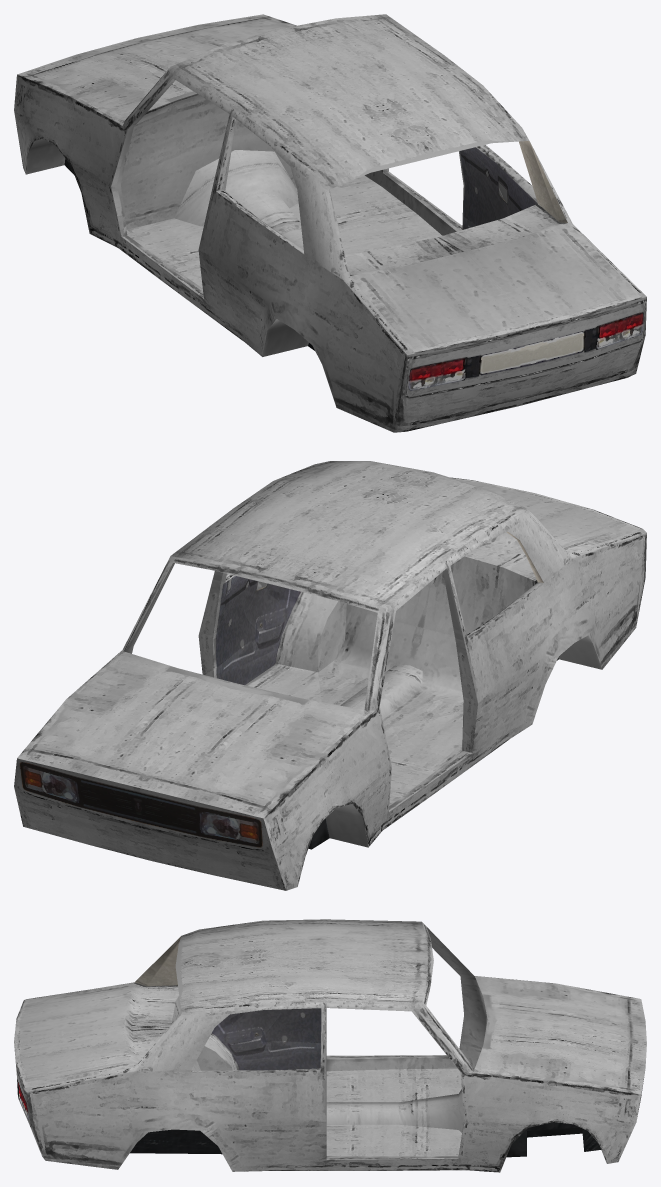
The model's file is stylized_lada_car_body.glb.
The picture shows the model from 3 angles, top to bottom: view 1: azimuth 30°, elevation 25°; view 2: azimuth 150°, elevation 25°; view 3: azimuth 270°, elevation 25°; orthographic projection. The views are drawn at different scales.
Parts seen in each view (by area): view 1: lada_body_1; view 2: lada_body_1; view 3: lada_body_1, lada_bottom_0.
Part boxes in pixels (x1,y1,x2,y2): lada_body_1: (14, 14, 646, 432); lada_body_1: (14, 461, 646, 890); lada_body_1: (14, 919, 646, 1172); lada_bottom_0: (130, 1122, 601, 1157).
Size of the model in its own units: 2.36 by 1.67 by 5.76.
1 material, 1 textured.
